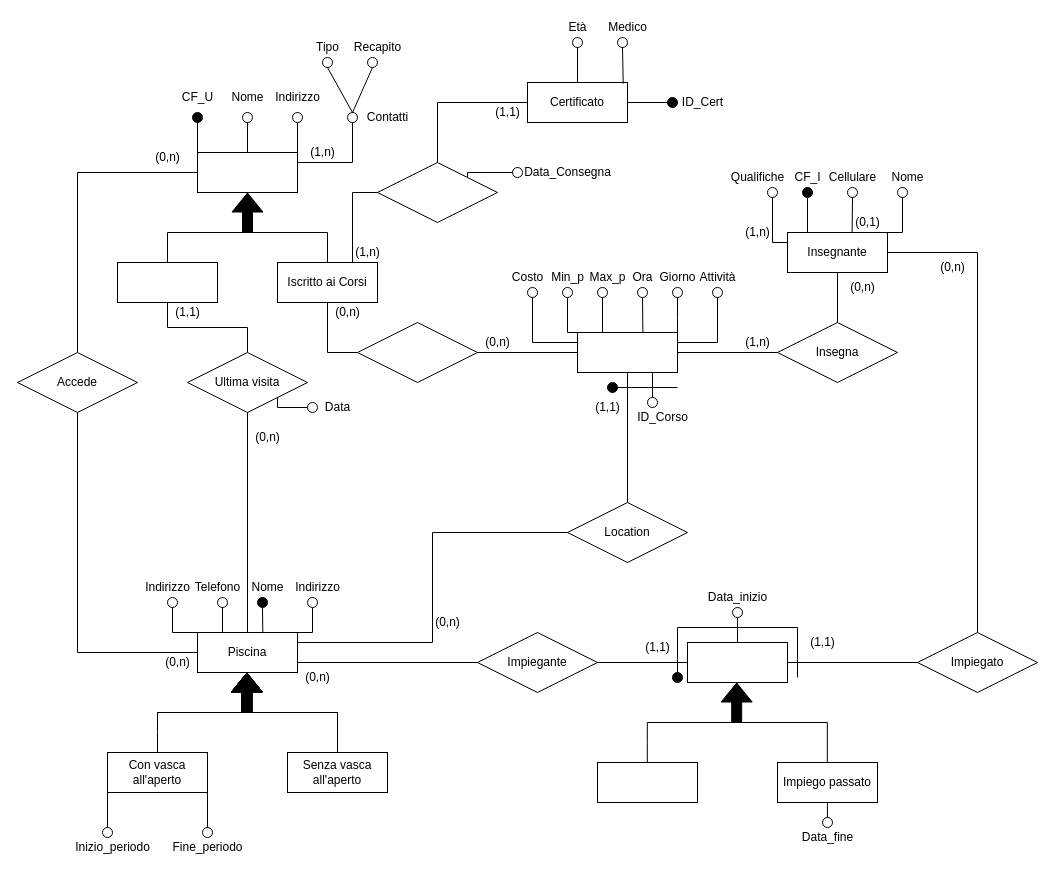
The diagram is 1055 pixels wide and 874 high, and some of its shapes have lost their labels. The centre of each missing label's shape, as x and y in pixels:
"Corso" belongs at (627,352).
"Fornisce" belongs at (437,192).
"Frequenta" belongs at (417,352).
"Impiego" belongs at (737,662).
"Impiego presente" belongs at (647,782).
"Nuotatore Libero" belongs at (167,282).
"Utente" belongs at (247,172).
